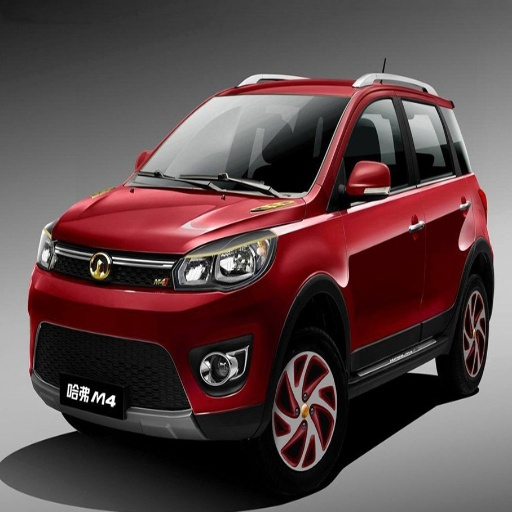front_bumper: (30, 229, 294, 436)
front_glass: (136, 98, 350, 194)
front_left_door: (336, 88, 420, 364)
